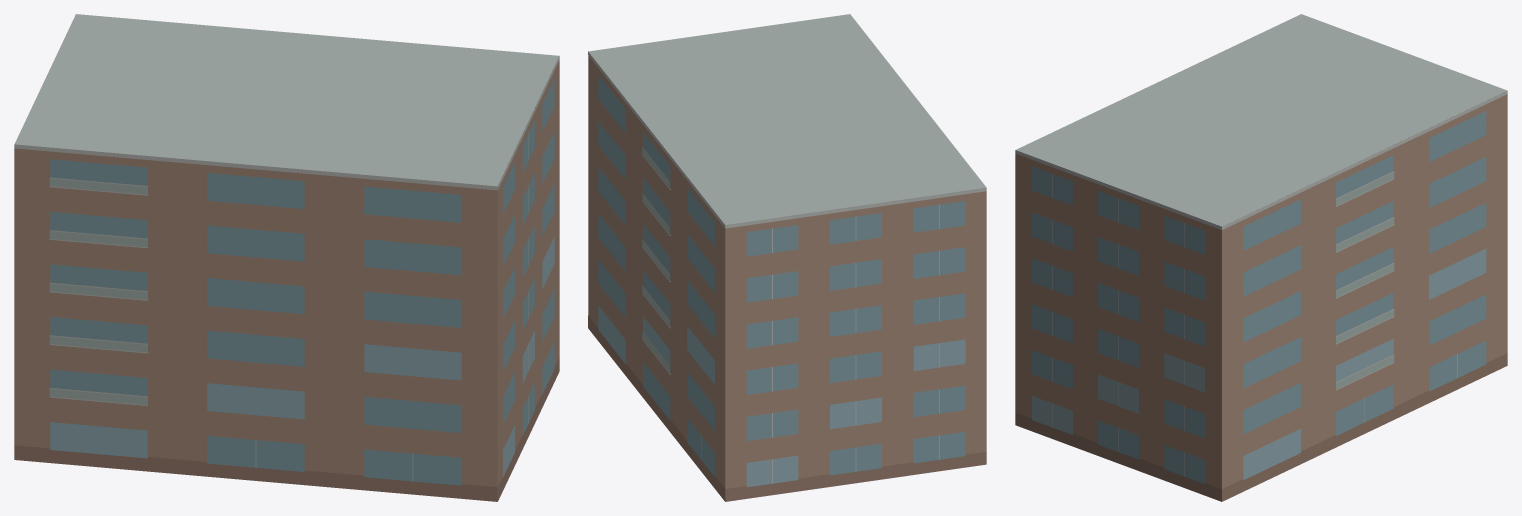
The model's file is survey-upis-32520927.glb.
3 renders of one model, left to right at view 1: azimuth 30°, elevation 25°; view 2: azimuth 150°, elevation 25°; view 3: azimuth 270°, elevation 25°, orthographic. The views are drawn at different scales.
Parts seen in each view (by area): view 1: survey-upis-32520927.tmp; view 2: survey-upis-32520927.tmp; view 3: survey-upis-32520927.tmp.
Boxes of the visible parts, x1,y1,x2,y2 form: survey-upis-32520927.tmp: (14,14,559,501); survey-upis-32520927.tmp: (588,14,986,501); survey-upis-32520927.tmp: (1015,14,1507,501).
Bounding box in the file's own units: 31.66 × 19.1 × 30.96.
